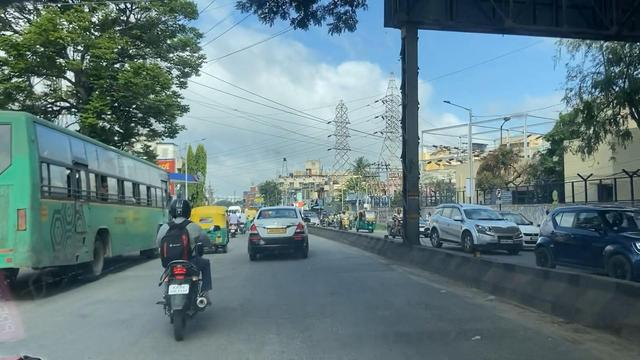HMV: (1, 115, 153, 278)
LMV: (158, 193, 212, 324), (246, 203, 309, 260)
